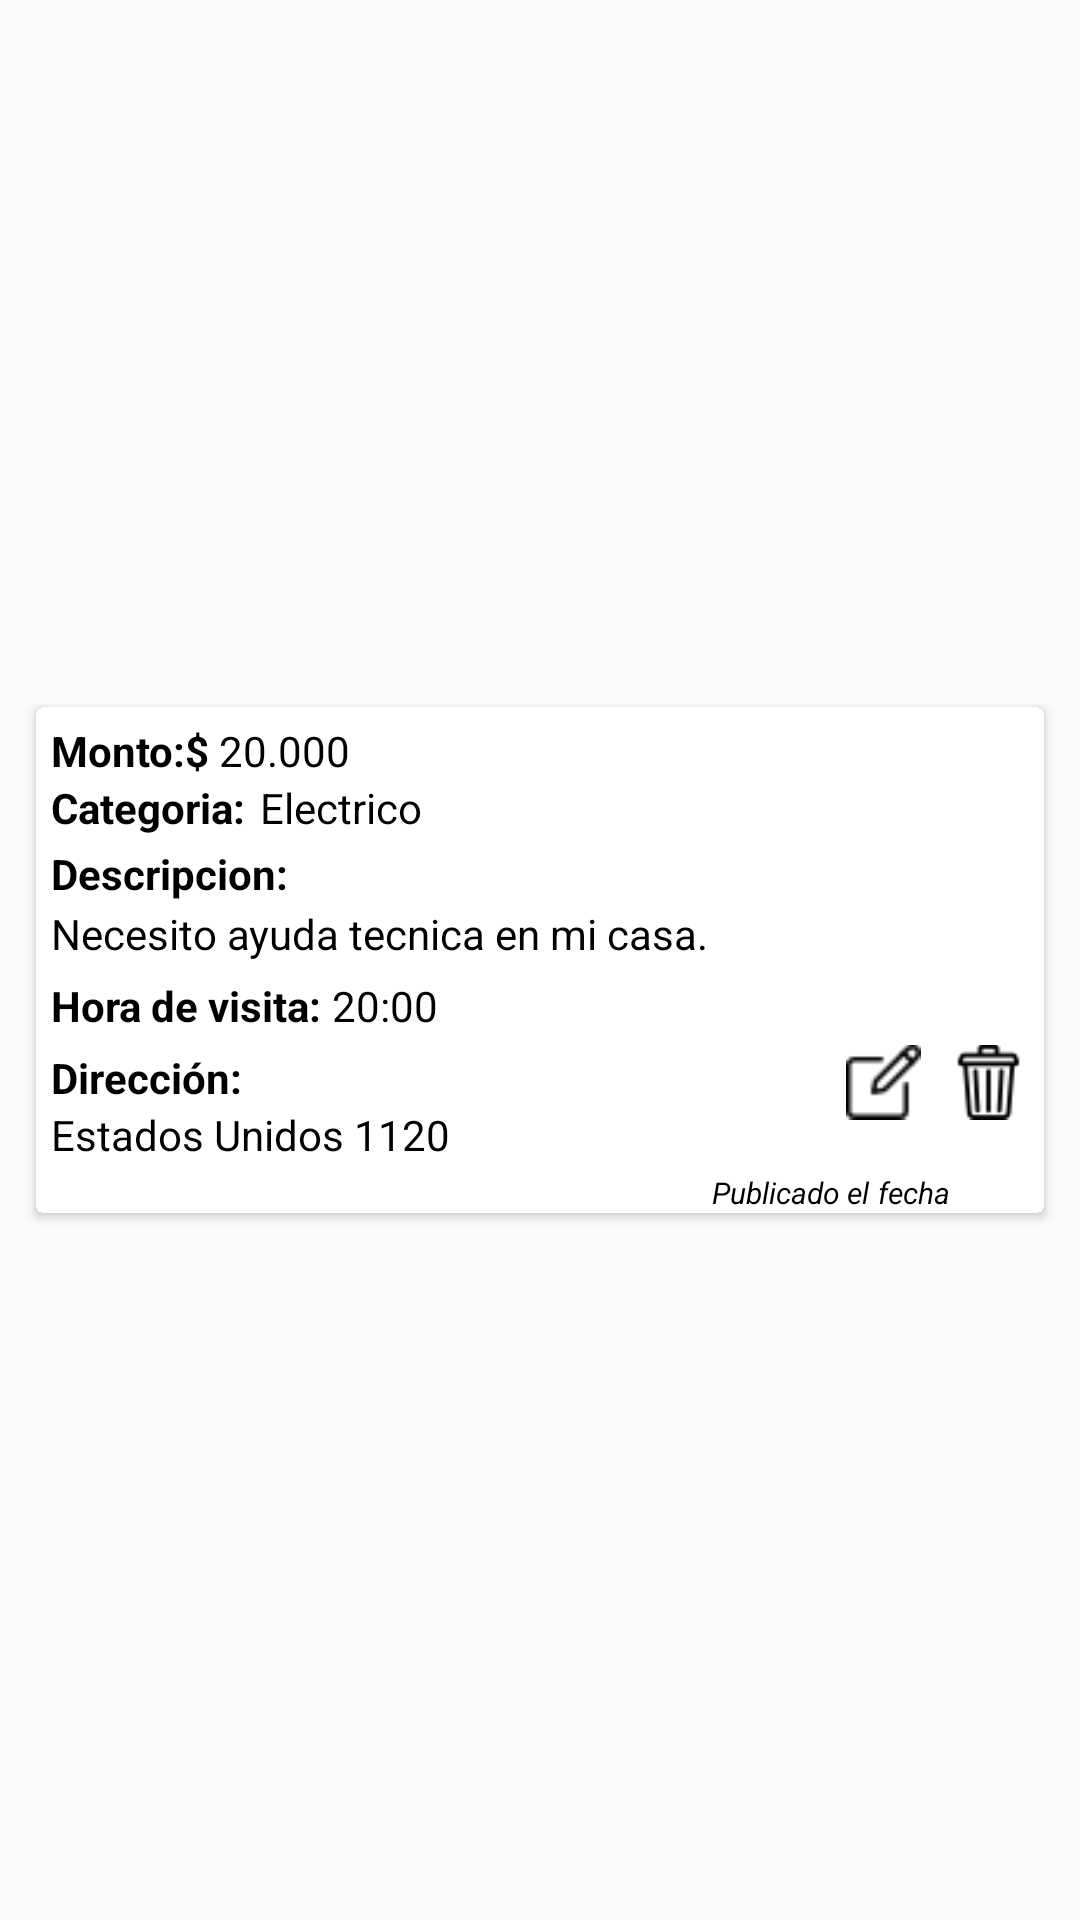

Point at icon controls on the screen. Image size 1080px x 1920px, points as (x=x, y=y).
delete: (x=988, y=1082)
edit: (x=883, y=1082)
